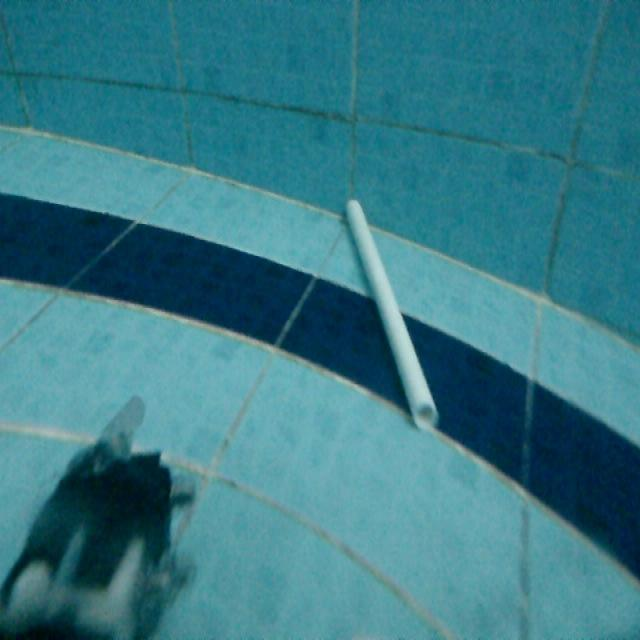Cube: (339, 191, 444, 432)
